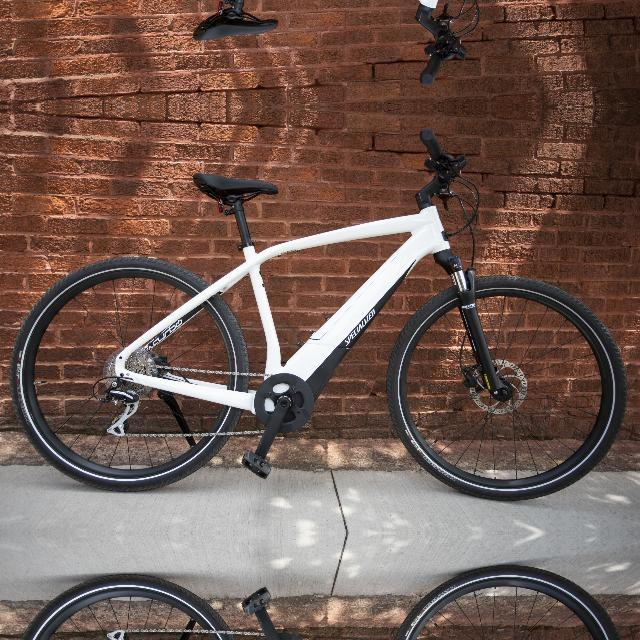obstacle: (6, 131, 640, 507), (6, 0, 639, 81), (6, 559, 639, 640)
